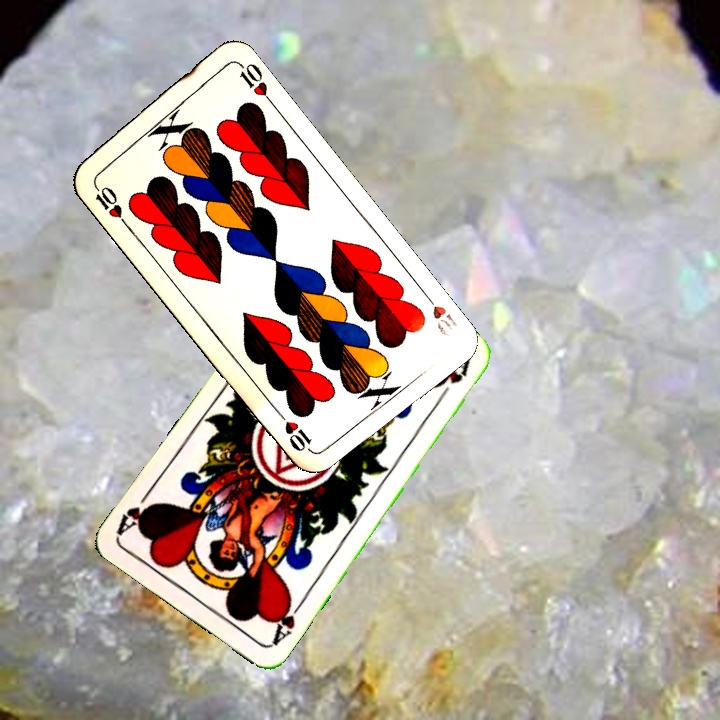H10: (418, 286, 459, 340), (88, 177, 130, 228)
HA: (268, 593, 308, 648)
